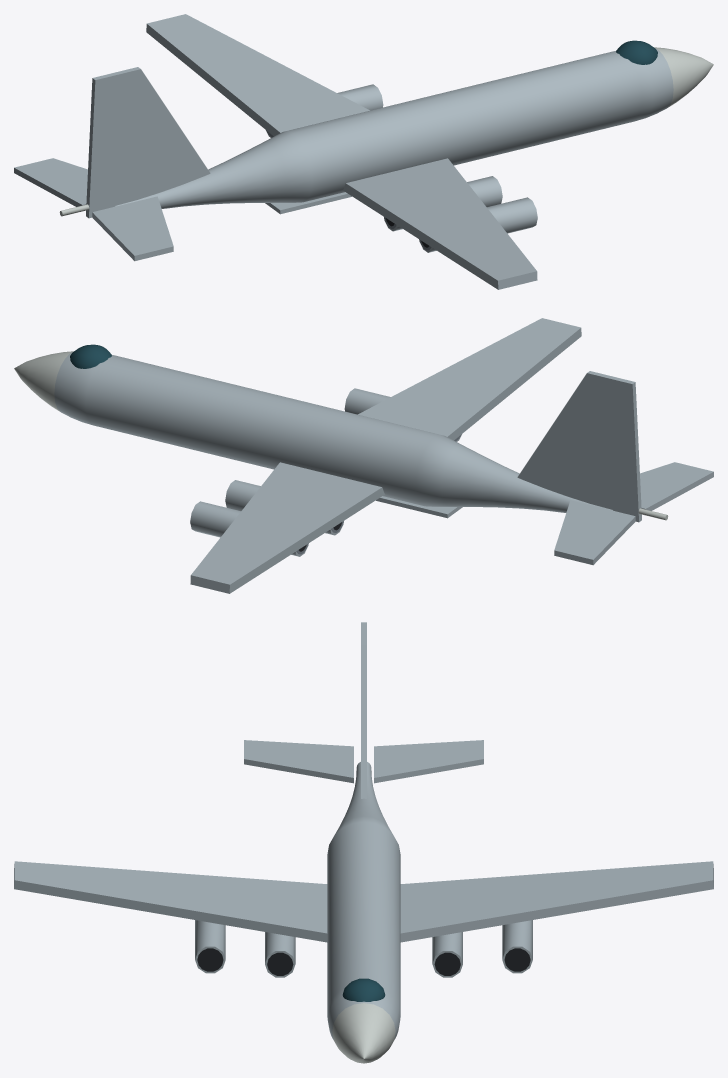
Rendered from jmsdf_mpa_p1.glb.
3 views of the same model, one above another, from view 1: azimuth 30°, elevation 25°; view 2: azimuth 150°, elevation 25°; view 3: azimuth 270°, elevation 25° (orthographic).
Visible parts, largest first — view 1: naval_paint, array_face, glazing; view 2: naval_paint, array_face, glazing; view 3: naval_paint, array_face, rubber, glazing.
Boxes of the visible parts, x1,y1,x2,y2 form: naval_paint: [14, 14, 673, 289]; array_face: [59, 47, 713, 216]; glazing: [616, 40, 657, 64]; naval_paint: [54, 318, 713, 593]; array_face: [14, 351, 668, 520]; glazing: [70, 344, 111, 368]; naval_paint: [14, 622, 713, 1039]; array_face: [332, 1003, 395, 1063]; rubber: [197, 948, 530, 975]; glazing: [342, 978, 385, 1001].
Size of the model in its own units: 10 by 2.66 by 9.34.
